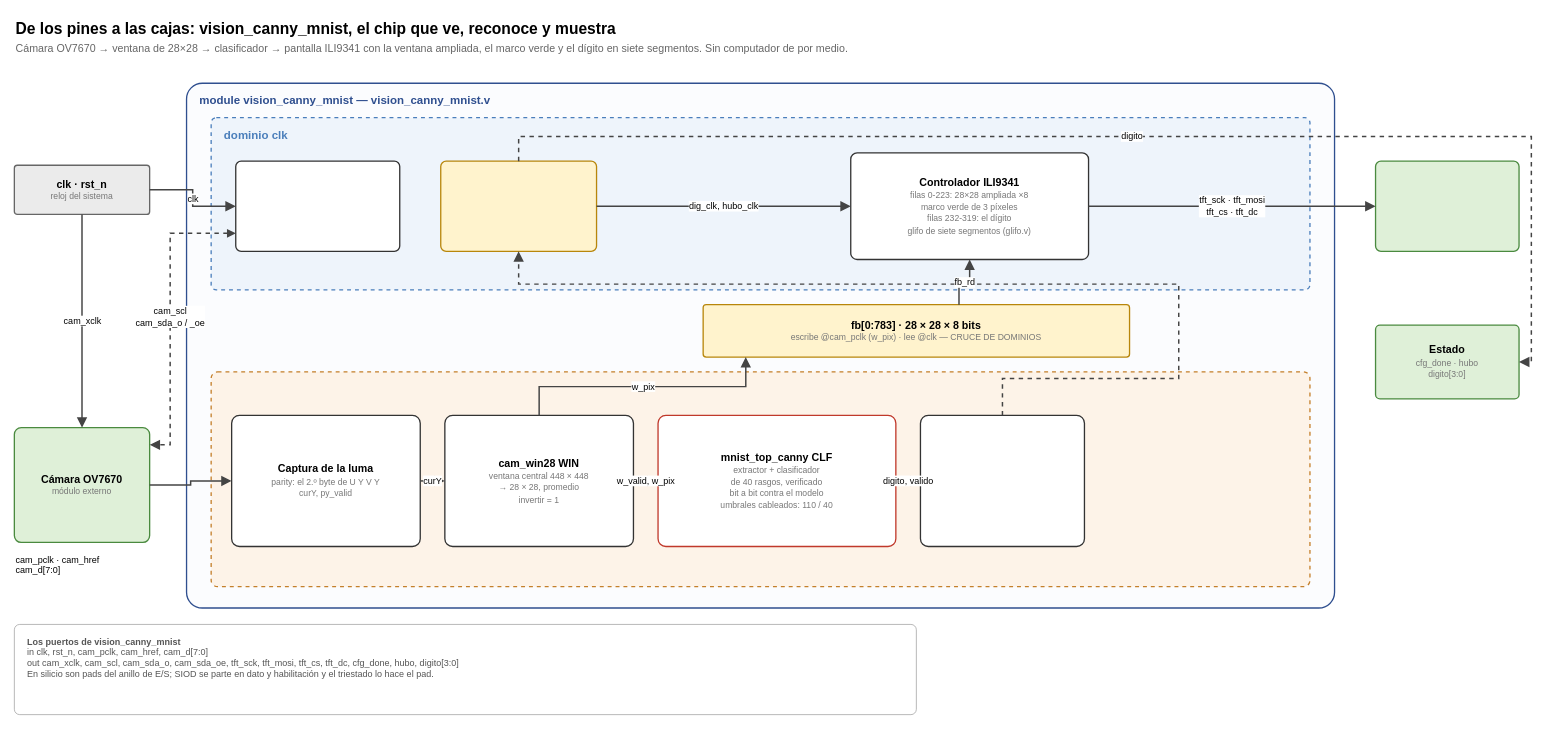
This 1555x729 diagram has some shape labels left out. Each missing label, with the box of its shape:
Configuración SCCB COM7, COM8, COM9 cam_sda_o / _oe: (235, 160, 400, 252)
dig_pclk · hubo el último veredicto NADA → código 10 (el glifo dibuja una raya): (919, 414, 1085, 547)
dominio cam_pclk: (210, 371, 1310, 587)
Pantalla TFT ILI9341: (1374, 160, 1519, 252)
Sincronizador dig_s1 → dig_clk hubo_s1 → hubo_clk 2 biestables: (440, 160, 597, 252)
